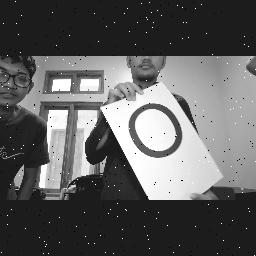o: (128, 100, 186, 162)
